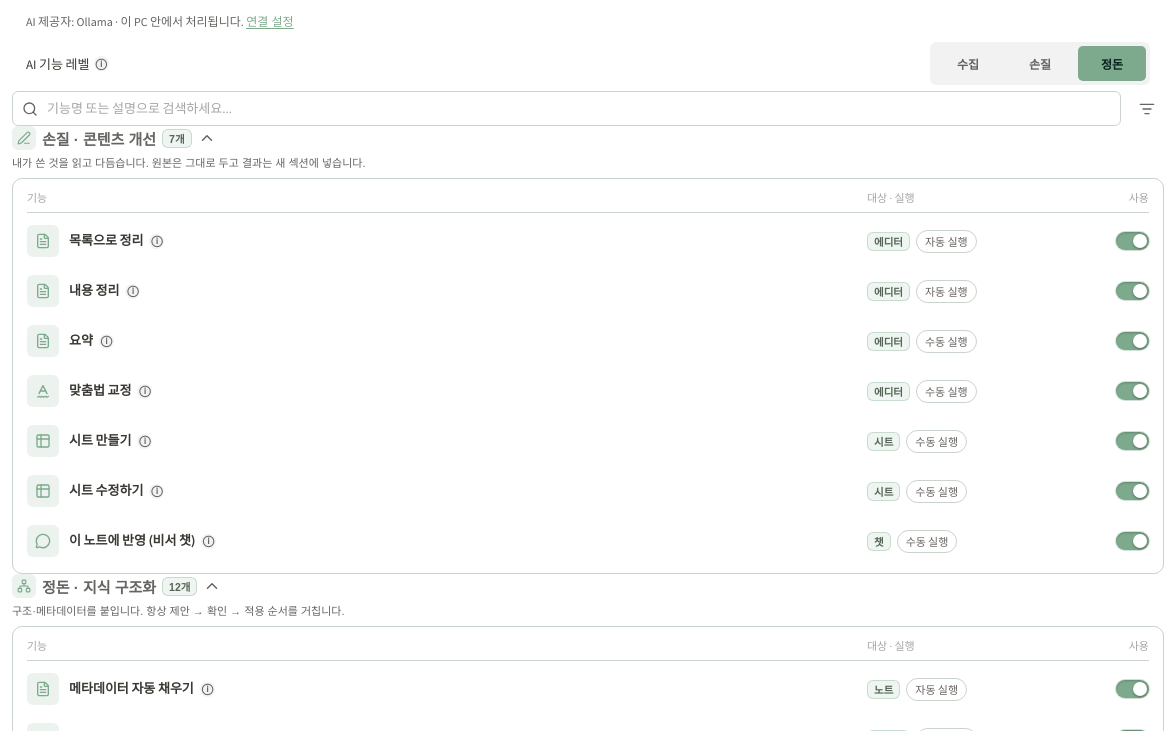
AiCapabilityCatalog — 현대적 AI 관리 센터 UI & 상호작용 › 실시간 검색창에 검색어를 입력하면 기능 행이 실시간으로 필터링된다
Expected: the element with test id "ai-capability-row-list" is shown, [27, 219, 1149, 263]
Expected: the element with test id "ai-capability-row-proofread" is shown, [27, 369, 1149, 413]
"맞춤법" 검색
Type "맞춤법" into the search field with test id "ai-capability-search-input".
click(566, 108); type("맞춤법")  # box [12, 91, 1121, 126]
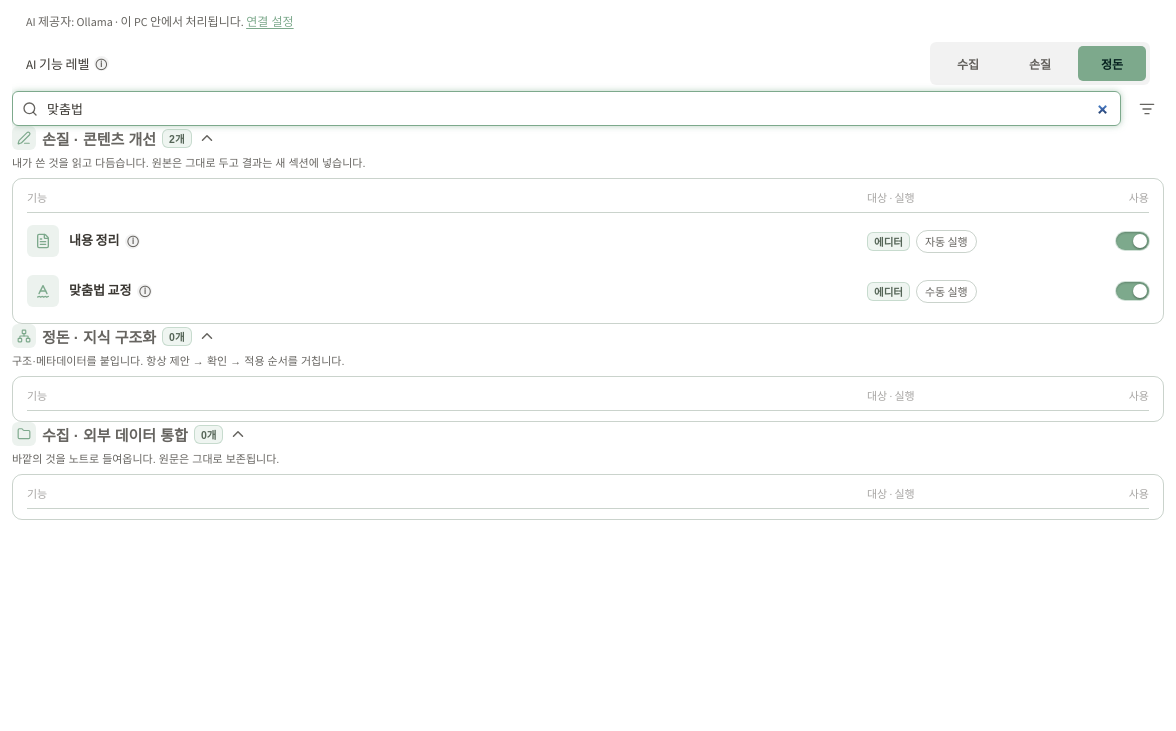
Expected: the element with test id "ai-capability-row-proofread" is shown, [27, 269, 1149, 313]
Expected: the element with test id "ai-capability-row-list" is gone
 검색어 지우기
Clear the search field with test id "ai-capability-search-input" at (566, 108), box [12, 91, 1121, 126]
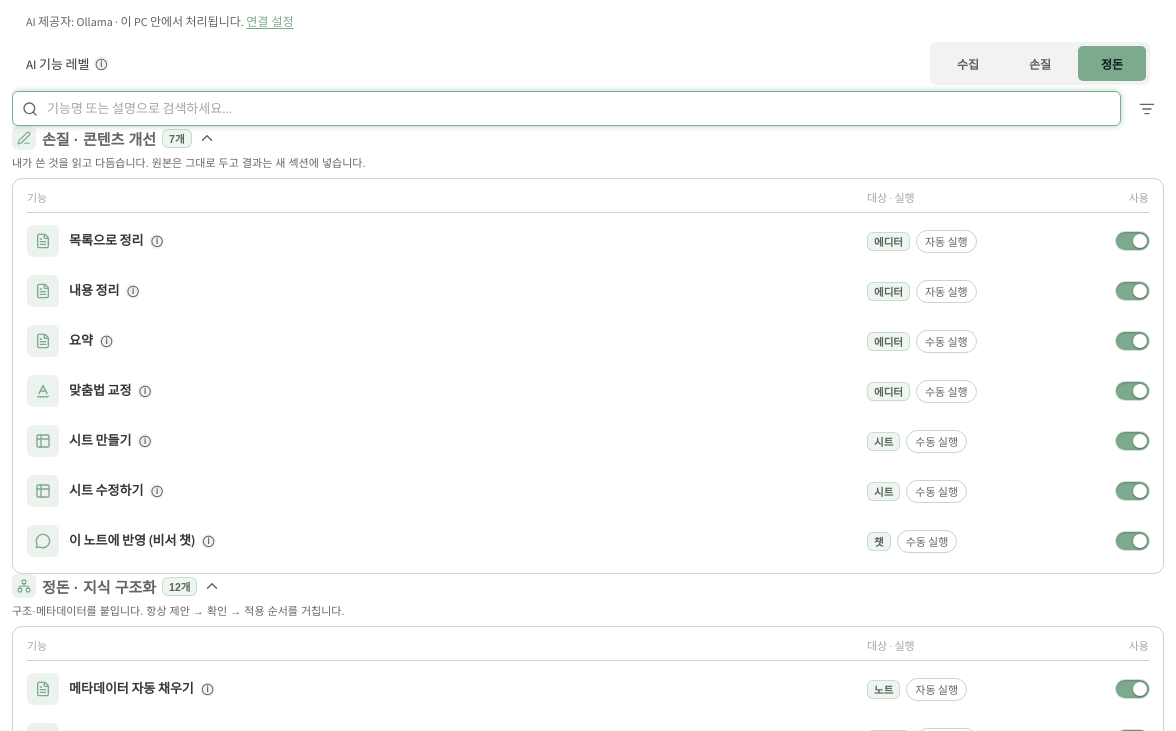
Expected: the element with test id "ai-capability-row-list" is shown, [27, 219, 1149, 263]
